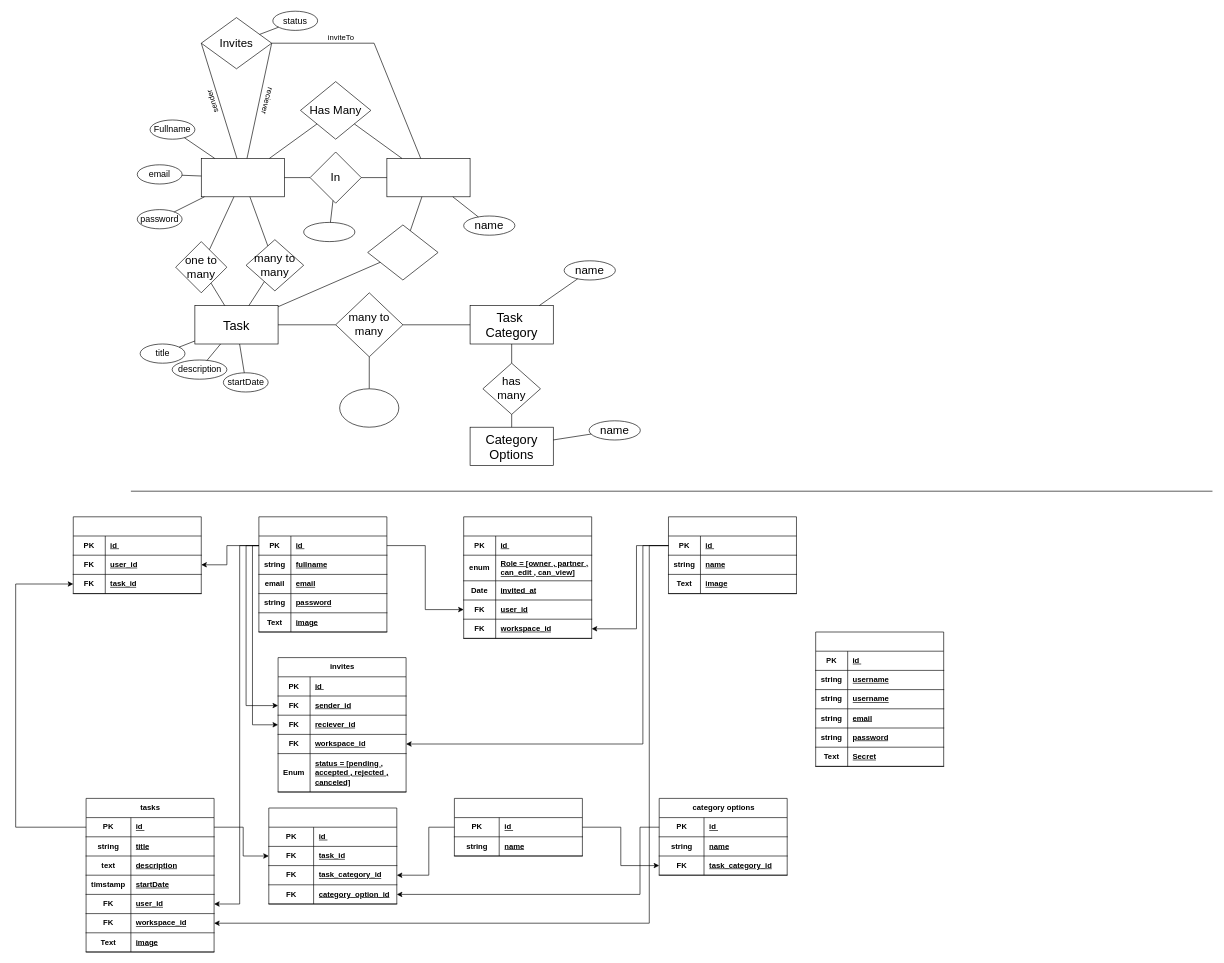
Image size: 1224x963. Some labels were removed from this diagram. Each missing label, with the box of its shape:
belongs to: (367, 224, 438, 280)
category option (id): (339, 388, 399, 427)
clients: (815, 631, 944, 766)
Role: (303, 222, 355, 242)
task categories: (454, 798, 582, 856)
tasks_task_categories: (268, 807, 397, 904)
User: (201, 158, 284, 197)
users: (258, 516, 387, 632)
users_tasks: (73, 516, 201, 594)
users_workspaces: (463, 516, 592, 638)
Workspace: (386, 158, 470, 197)
workspaces: (668, 516, 796, 594)
